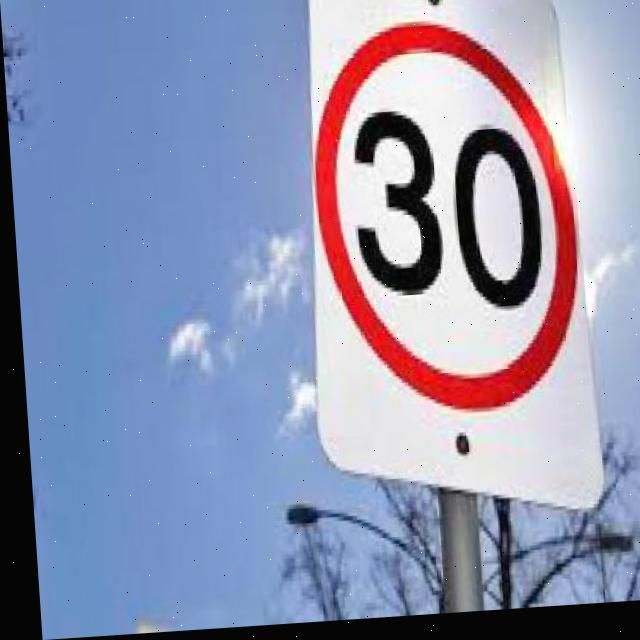Speed limit 30: (282, 1, 606, 534)
